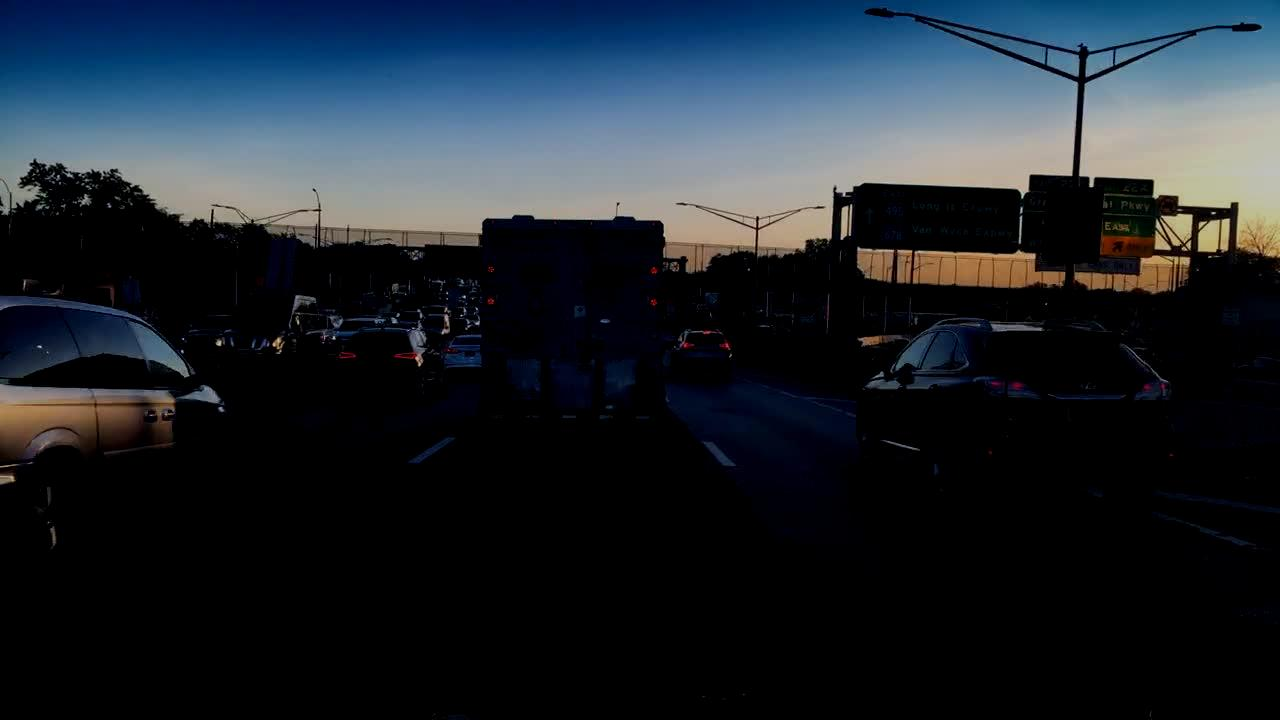lexus: (1078, 380, 1100, 393)
